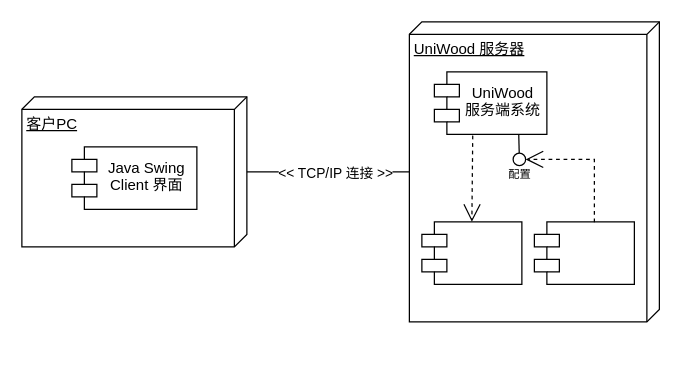
Some shapes in this 681 by 381 pixel diagram are drawn without their labels. Here are the shapes that lost their labels. From the top down, the centre of each, then its label:
point 471,252: MySQL 数据库
point 583,252: 服务器 配置参数
